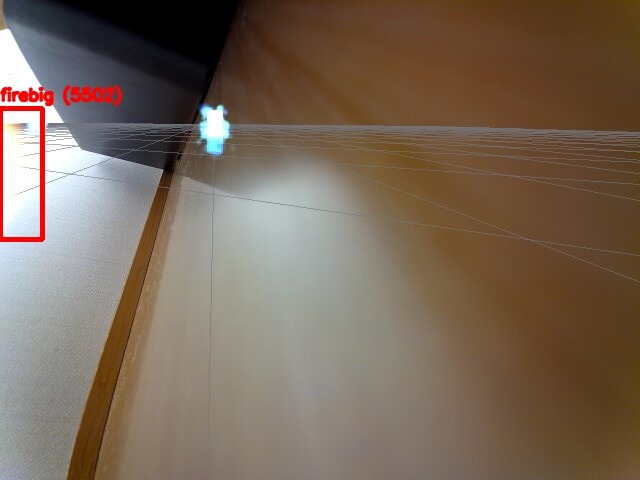firebig: (0, 108, 42, 239)
